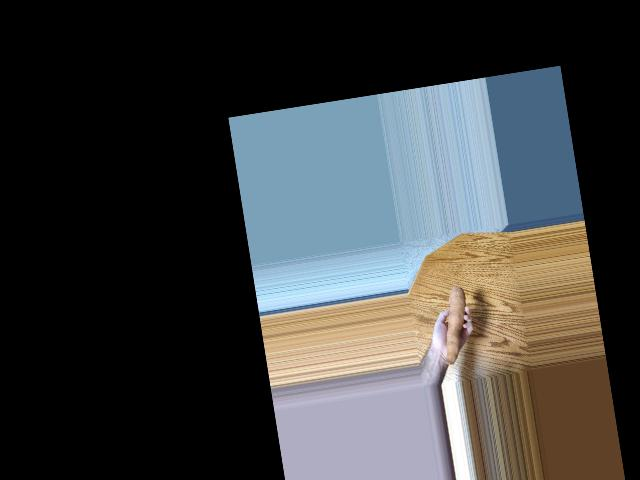sweet_potato: (436, 282, 476, 362)
